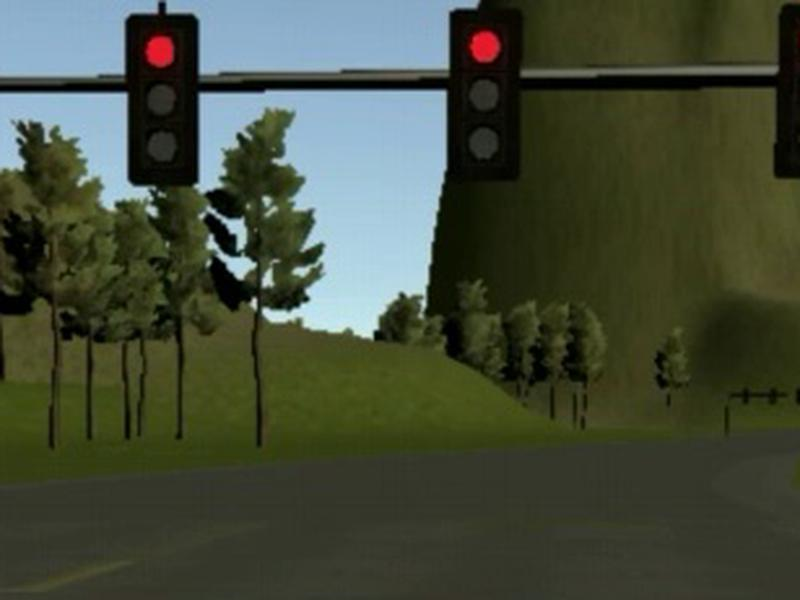Red: (449, 11, 522, 176), (129, 13, 197, 185)
